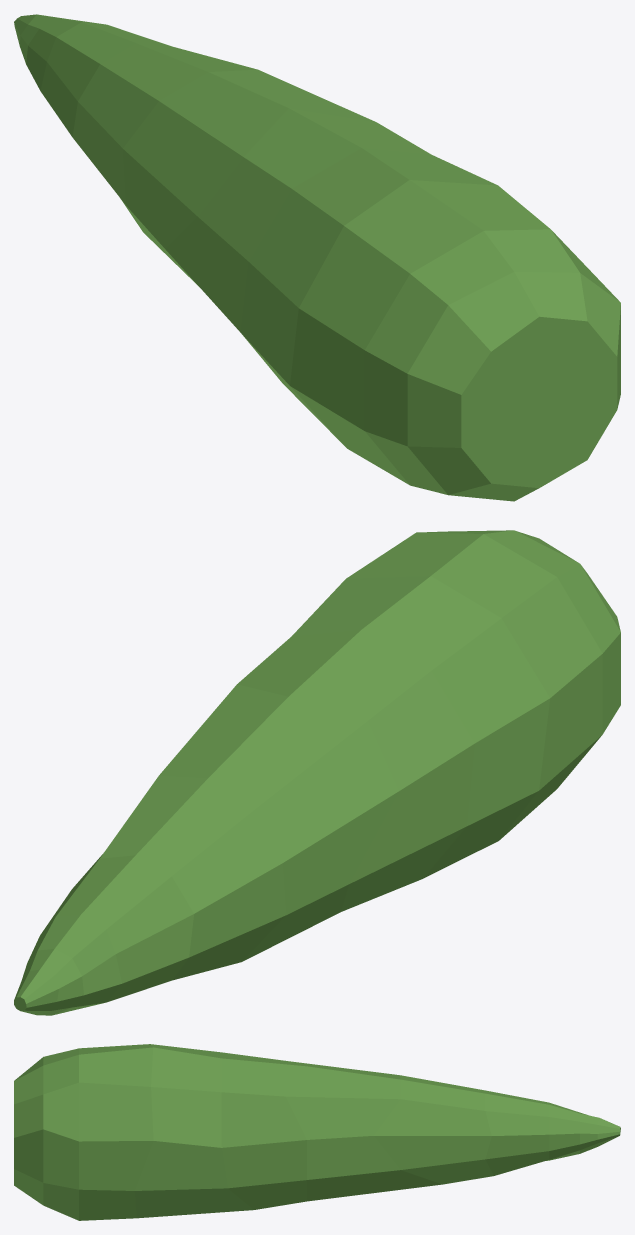
File: Bush_5.fbx
3 renders of one model, top to bottom at view 1: azimuth 30°, elevation 25°; view 2: azimuth 150°, elevation 25°; view 3: azimuth 270°, elevation 25°, orthographic. The views are drawn at different scales.
Visible parts, largest first — view 1: Bush_5; view 2: Bush_5; view 3: Bush_5.
Part boxes in pixels (<box>): Bush_5: <box>14,14,620,501</box>; Bush_5: <box>14,530,620,1015</box>; Bush_5: <box>14,1044,620,1220</box>.
Bounding box in the file's own units: 168 × 176 × 601.
